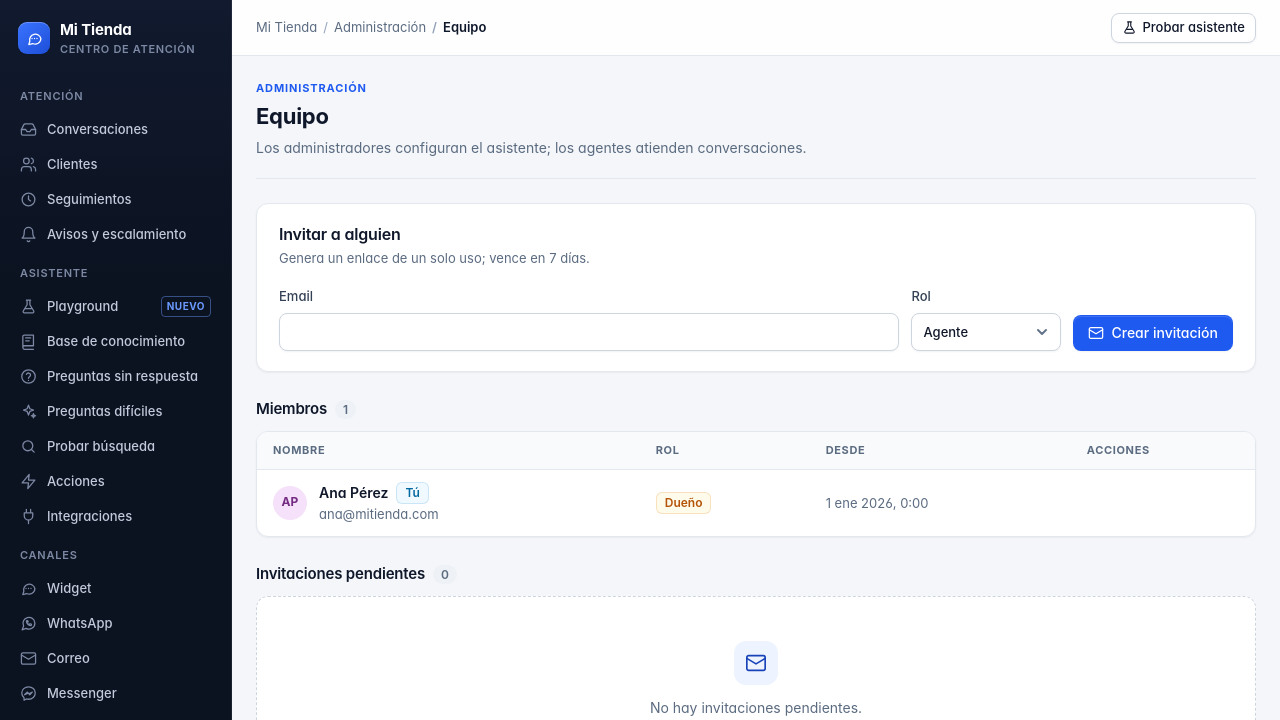
Test case: Team › creates an invitation and shows its link once
The width and height of the screenshot is (1280, 720).
Check: the text "Tú" is shown, box [396,482,429,504]
In the field labelled "Email": (589, 332) [279,312,900,351], type "luis@mitienda.com"
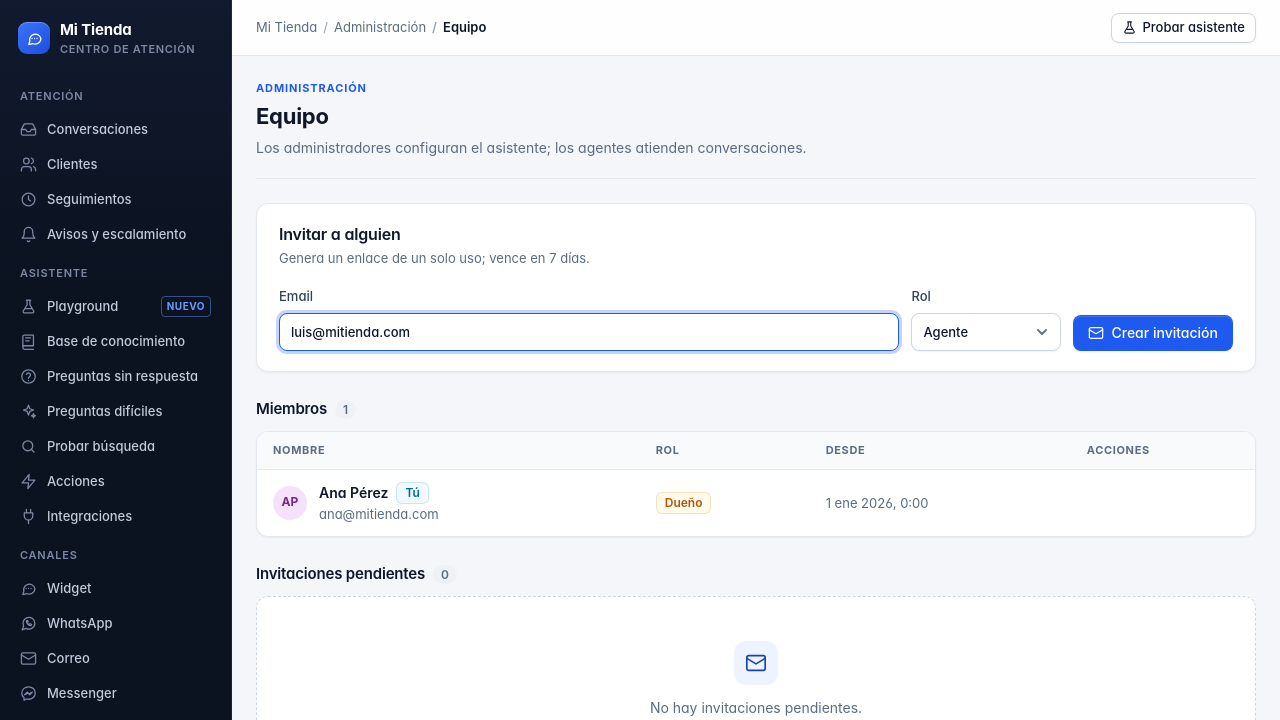
Click the button "Crear invitación": (1153, 333) [1074,315,1233,351]
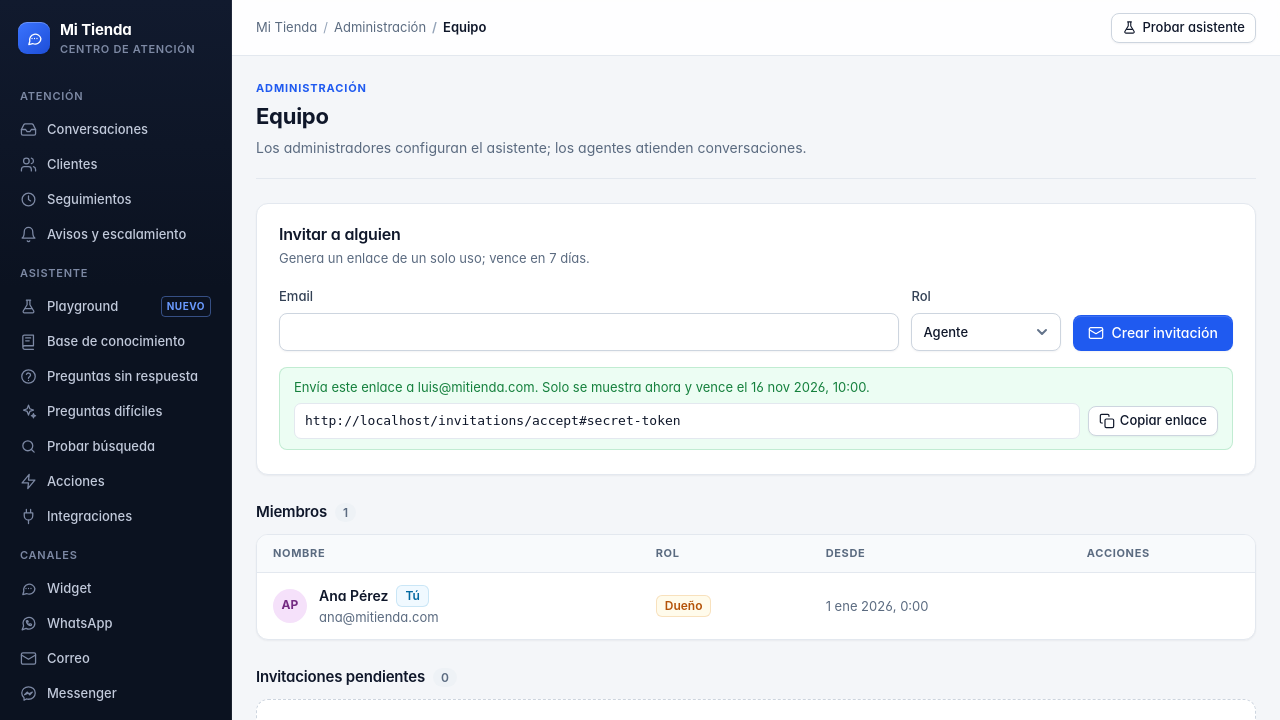
Check: the message shows "luis@mitienda.com", box [418,379,535,395]
Check: the message shows "/invitations/accept#secret-token", box [305,413,681,428]
